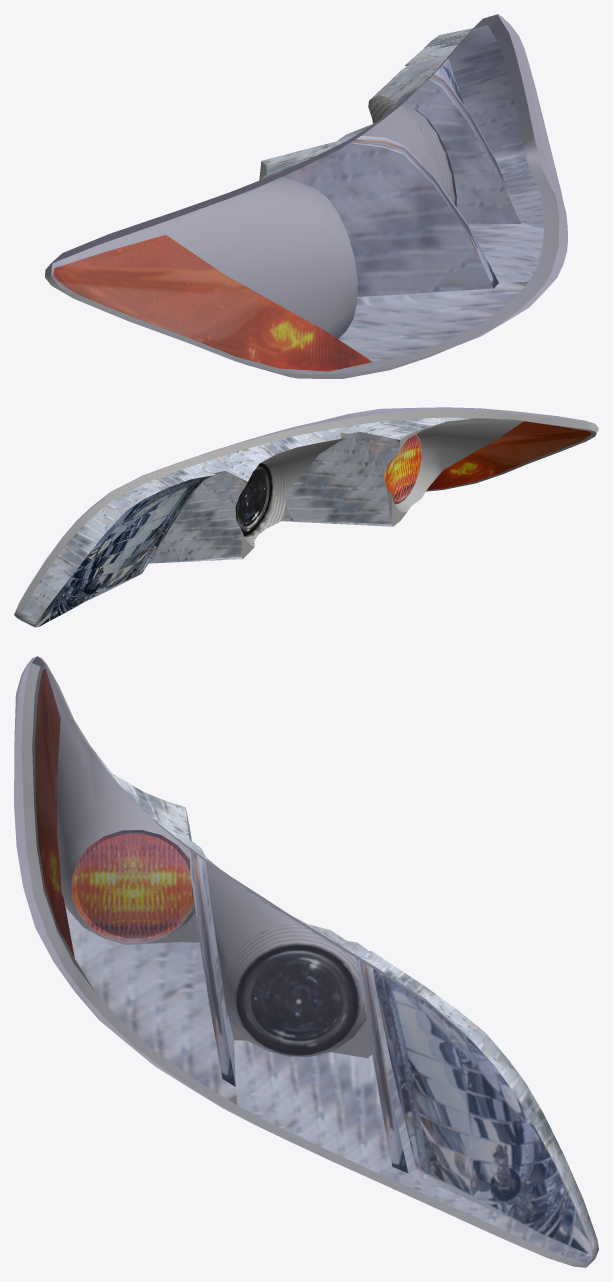
3 renders of one model, top to bottom at view 1: azimuth 30°, elevation 25°; view 2: azimuth 150°, elevation 25°; view 3: azimuth 270°, elevation 25°, orthographic. The views are drawn at different scales.
Visible parts, largest first — view 1: Y175_18_061B_R_Y175_18_061B_R_1_DTaSI, Y175_18_061B_R_Y175_18_061B_R_2_N, Y175_18_061B_R_3_N_Y175_18_061B_R; view 2: Y175_18_061B_R_Y175_18_061B_R_2_N, Y175_18_061B_R_3_N_Y175_18_061B_R, Y175_18_061B_R_Y175_18_061B_R_1_DTaSI; view 3: Y175_18_061B_R_Y175_18_061B_R_1_DTaSI, Y175_18_061B_R_Y175_18_061B_R_2_N, Y175_18_061B_R_3_N_Y175_18_061B_R.
Boxes of the visible parts, left/top/right/bottom form: Y175_18_061B_R_Y175_18_061B_R_1_DTaSI: left=51, top=14, right=567, bottom=378; Y175_18_061B_R_Y175_18_061B_R_2_N: left=52, top=25, right=543, bottom=371; Y175_18_061B_R_3_N_Y175_18_061B_R: left=45, top=14, right=559, bottom=378; Y175_18_061B_R_Y175_18_061B_R_2_N: left=19, top=417, right=591, bottom=627; Y175_18_061B_R_3_N_Y175_18_061B_R: left=14, top=410, right=598, bottom=619; Y175_18_061B_R_Y175_18_061B_R_1_DTaSI: left=17, top=407, right=597, bottom=606; Y175_18_061B_R_Y175_18_061B_R_1_DTaSI: left=14, top=656, right=593, bottom=1267; Y175_18_061B_R_Y175_18_061B_R_2_N: left=35, top=669, right=598, bottom=1262; Y175_18_061B_R_3_N_Y175_18_061B_R: left=21, top=656, right=595, bottom=1267.
Size of the model in its own units: 53.51 by 21.76 by 39.81.
